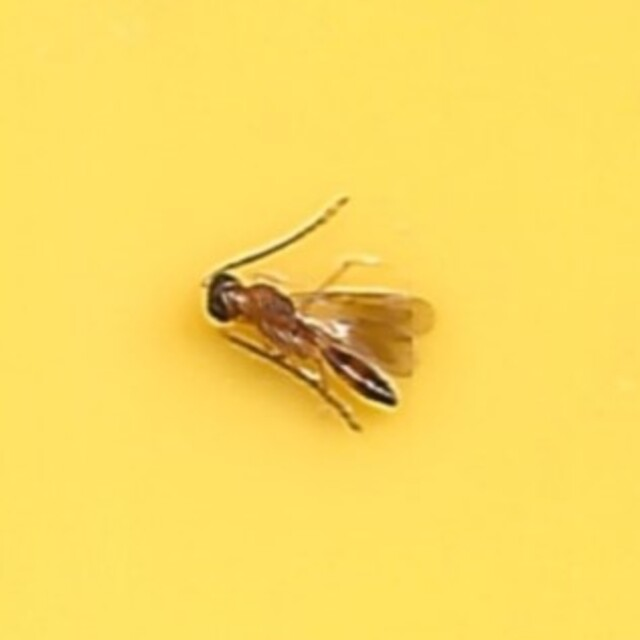Hymenoptera: (203, 201, 437, 439)
